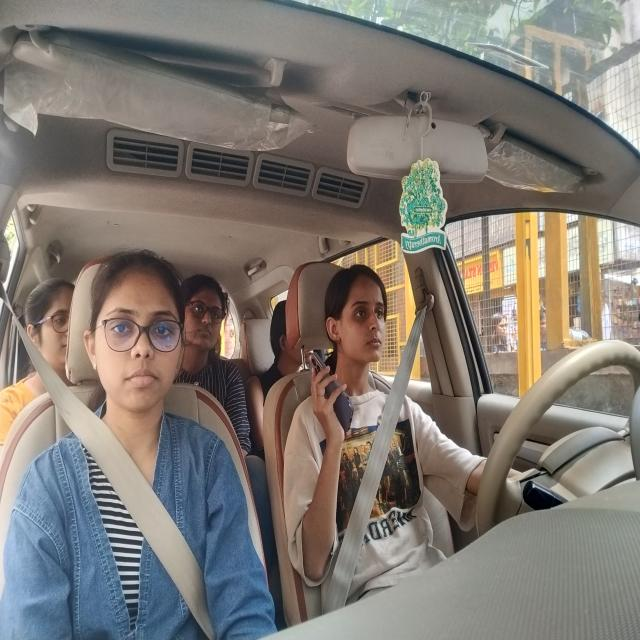mobile: (309, 349, 355, 436)
person: (86, 247, 187, 416), (325, 264, 391, 365), (23, 280, 81, 379), (181, 266, 232, 360), (269, 288, 301, 369)
